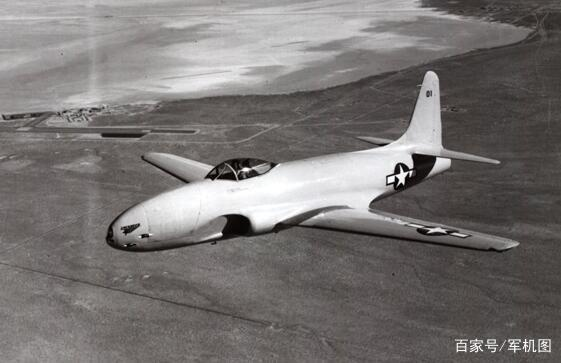airplane: (91, 68, 521, 259)
